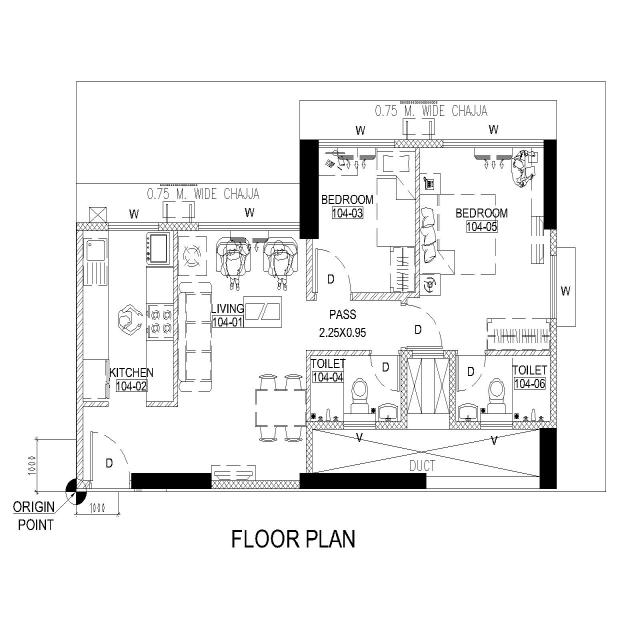Column: (298, 471, 429, 491), (298, 138, 321, 241), (130, 472, 212, 491), (543, 138, 558, 231), (538, 427, 558, 492)
Door: (88, 479, 134, 493), (314, 291, 354, 302), (400, 303, 409, 349), (455, 349, 487, 356), (368, 349, 400, 355)
Ventilator: (342, 420, 376, 431), (479, 421, 514, 431)
Window: (197, 221, 303, 234), (441, 138, 545, 149), (316, 137, 396, 149), (548, 253, 558, 321), (107, 221, 159, 232)
